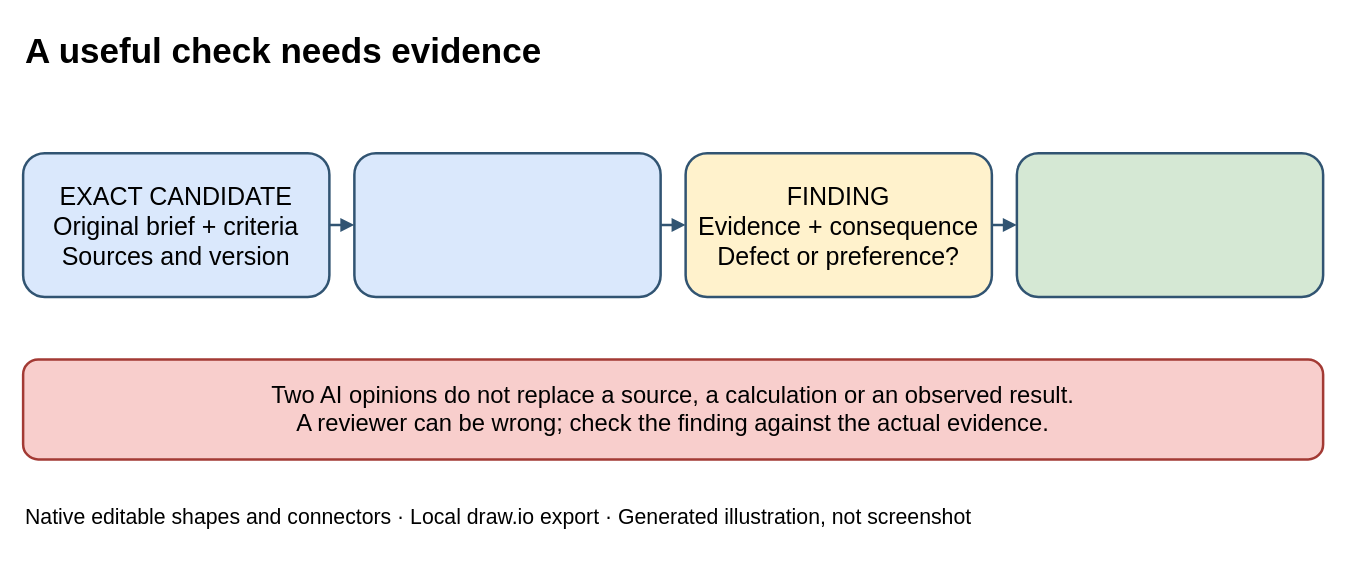
This 1345x580 diagram has some shape labels left out. The shapes that lost their labels are listed below. From the top down, each one's centre as x and y in pixels, then its label:
At pixel 506 224: "OBSERVABLE CHECK Trace, render or execute Compare with expectation".
At pixel 1169 224: "DECISION Correct, clarify or retain Preserve uncertainty".
